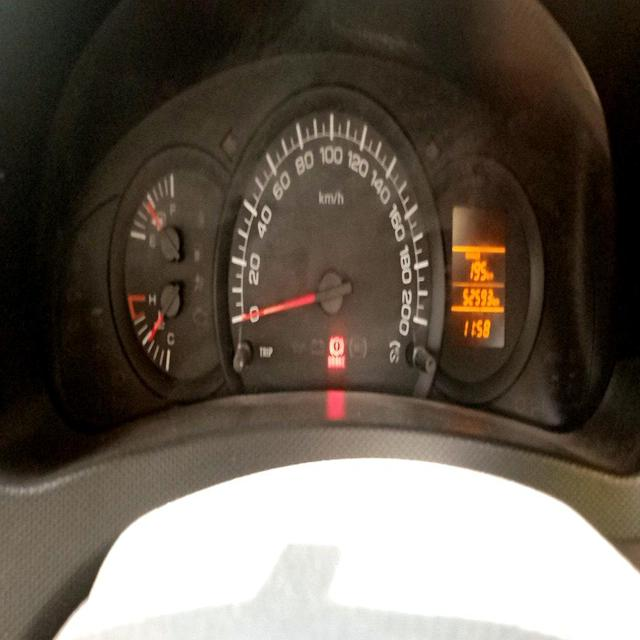odometer: (461, 287, 493, 308)
